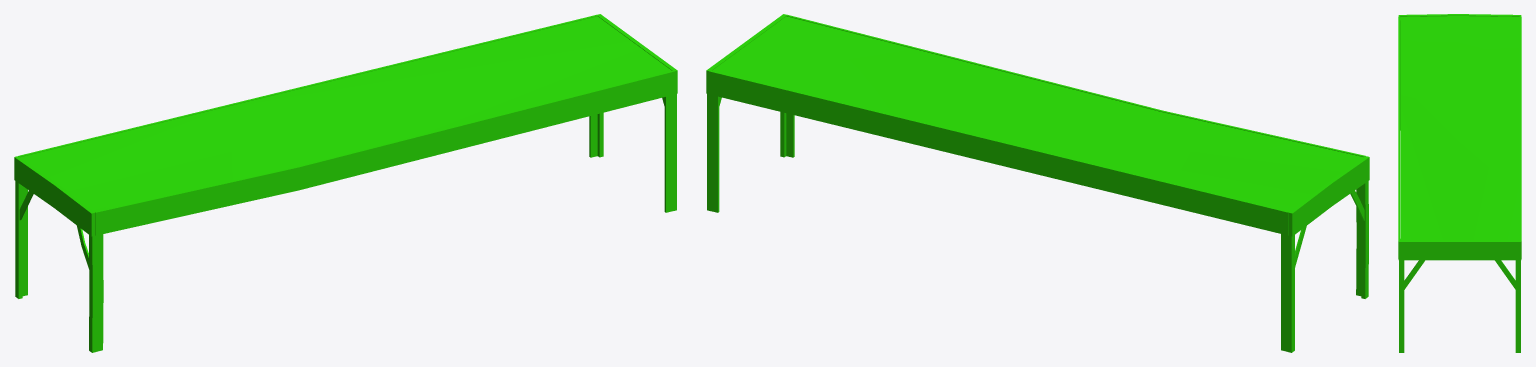
The model's file is Workbench_01_Lod0.fbx.
The picture shows the model from 3 angles, left to right: view 1: azimuth 30°, elevation 25°; view 2: azimuth 150°, elevation 25°; view 3: azimuth 270°, elevation 25°; orthographic projection. The views are drawn at different scales.
Visible parts, largest first — view 1: Workbench_01_Lod0; view 2: Workbench_01_Lod0; view 3: Workbench_01_Lod0.
Boxes of the visible parts, x1,y1,x2,y2 form: Workbench_01_Lod0: (14,14,677,352); Workbench_01_Lod0: (706,14,1369,352); Workbench_01_Lod0: (1398,14,1521,352).
Size of the model in its own units: 351 by 80.75 by 80.58.
